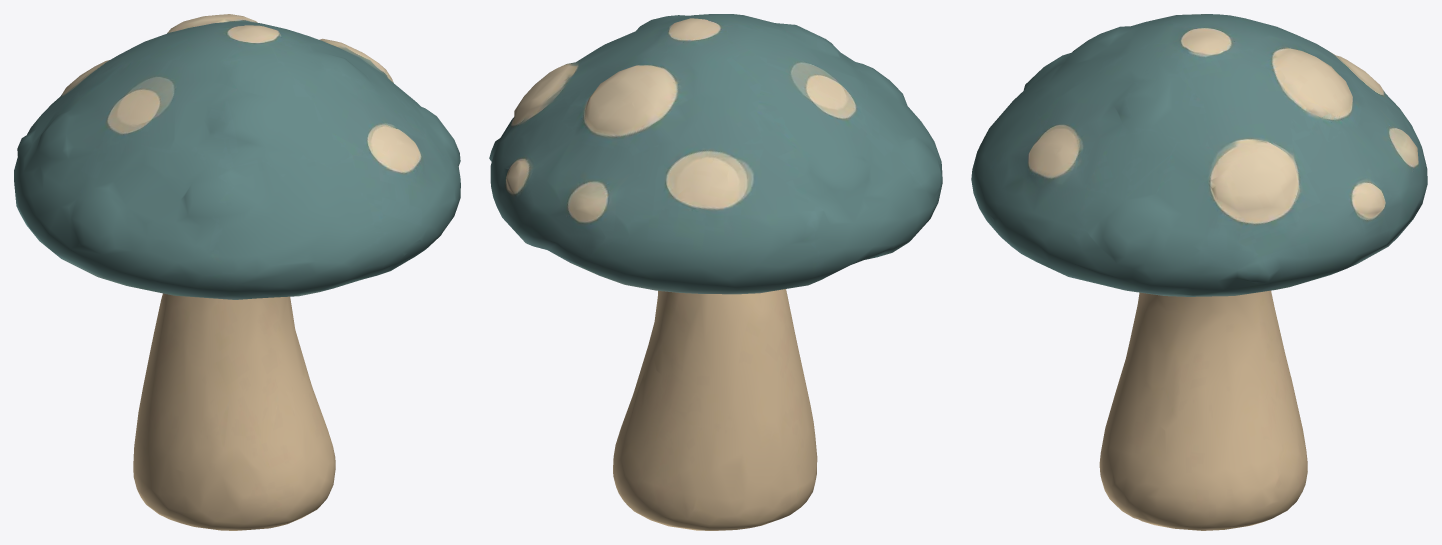
The model's file is tree-shroom.glb.
3 renders of one model, left to right at view 1: azimuth 30°, elevation 25°; view 2: azimuth 150°, elevation 25°; view 3: azimuth 270°, elevation 25°, orthographic.
Visible parts, largest first — view 1: tripo_node_6e2ce97d-7f21-44b1-b405-b1fa67bae46a; view 2: tripo_node_6e2ce97d-7f21-44b1-b405-b1fa67bae46a; view 3: tripo_node_6e2ce97d-7f21-44b1-b405-b1fa67bae46a.
Part boxes in pixels (x1,y1,x2,y2): tripo_node_6e2ce97d-7f21-44b1-b405-b1fa67bae46a: (14, 14, 460, 530); tripo_node_6e2ce97d-7f21-44b1-b405-b1fa67bae46a: (489, 14, 942, 530); tripo_node_6e2ce97d-7f21-44b1-b405-b1fa67bae46a: (971, 14, 1427, 530).
Size of the model in its own units: 0.8859 by 1 by 0.8857.
Materials: 1 (1 with a texture image).
